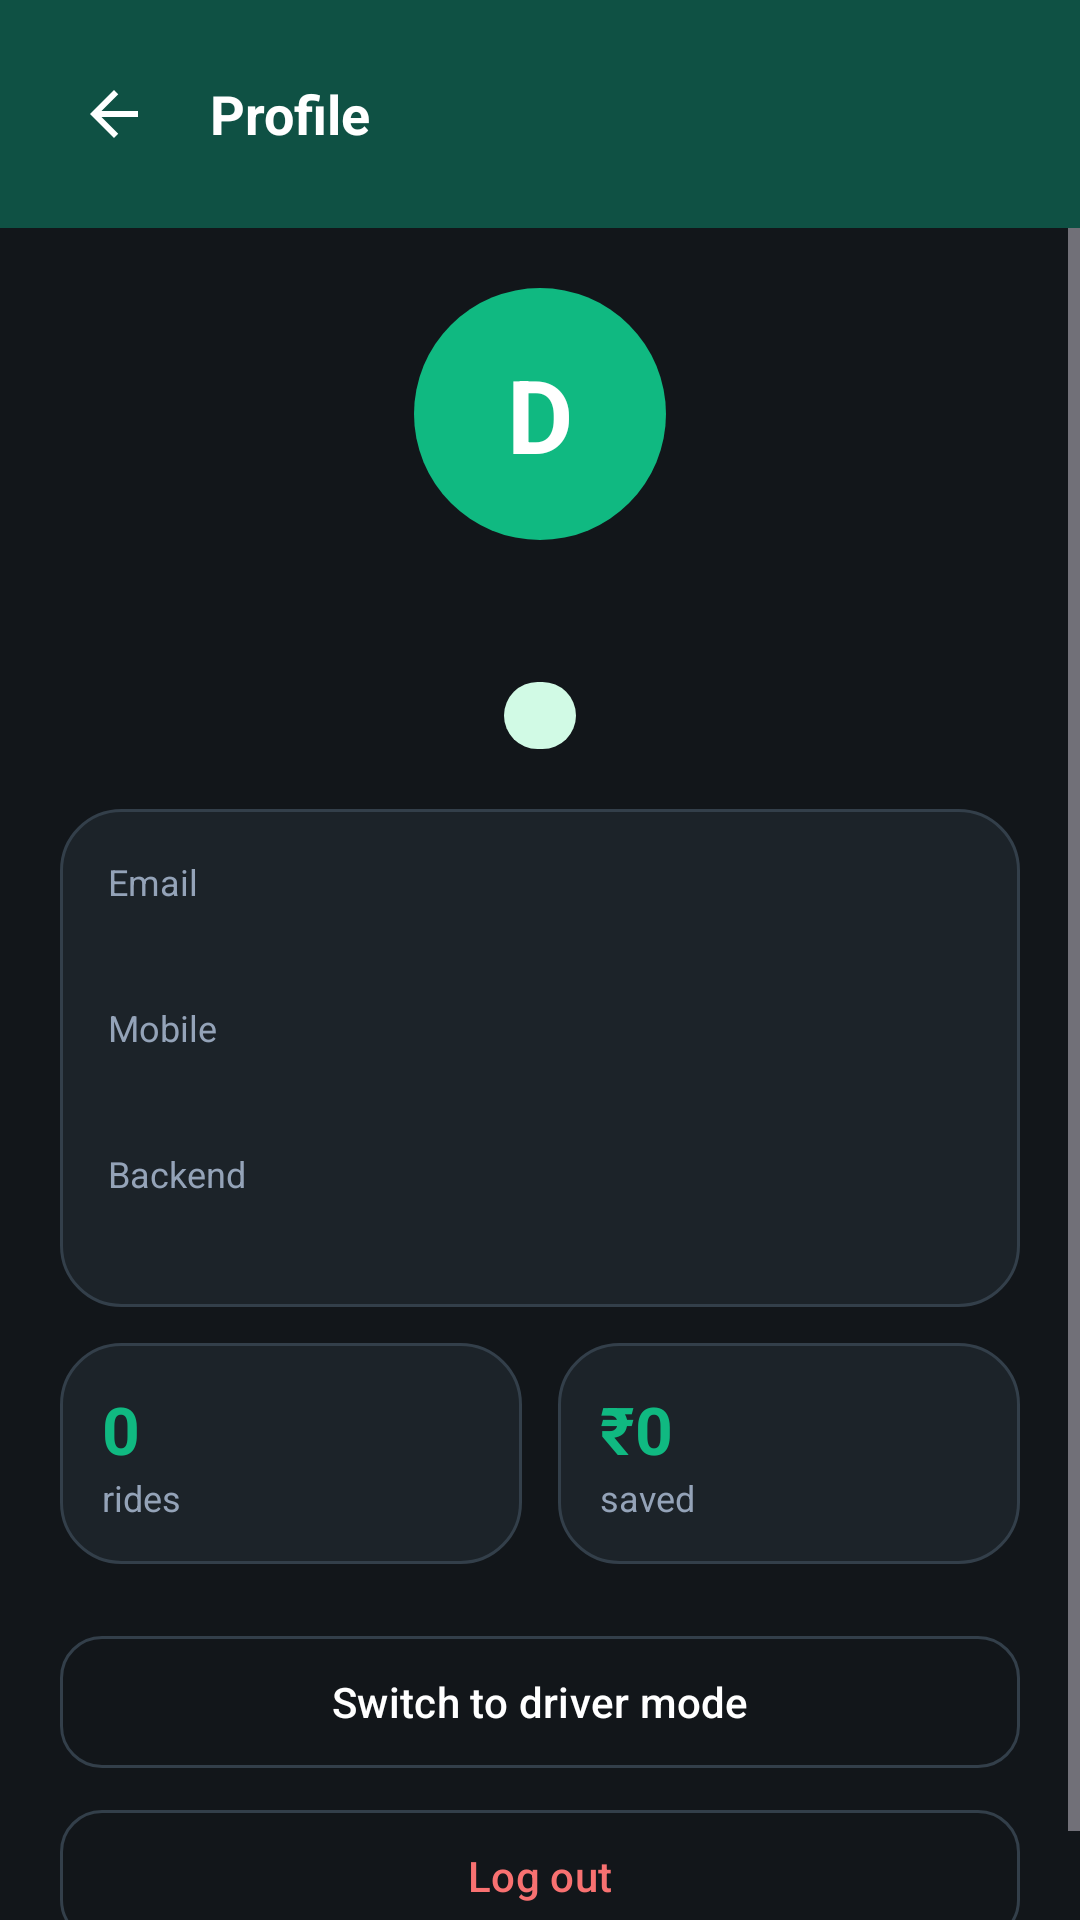

Named icons in this screenshot (1080*1920) and their centers, [x,y]:
Back: [114,114]
